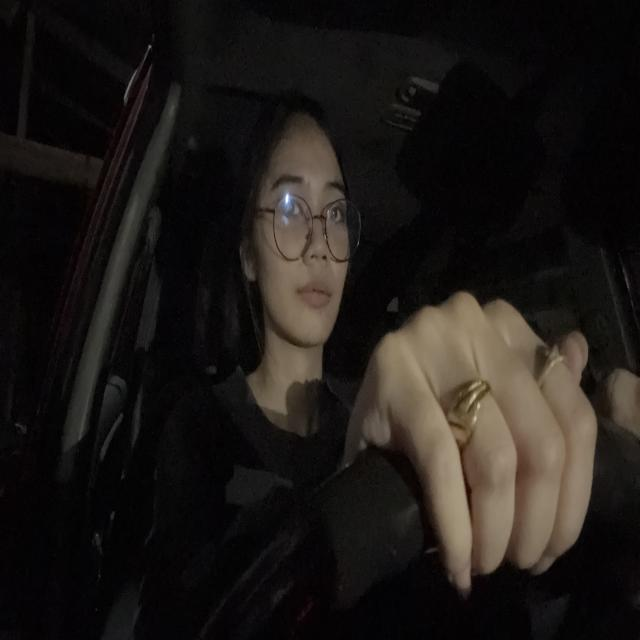open: (267, 173, 307, 235), (320, 170, 346, 232)
